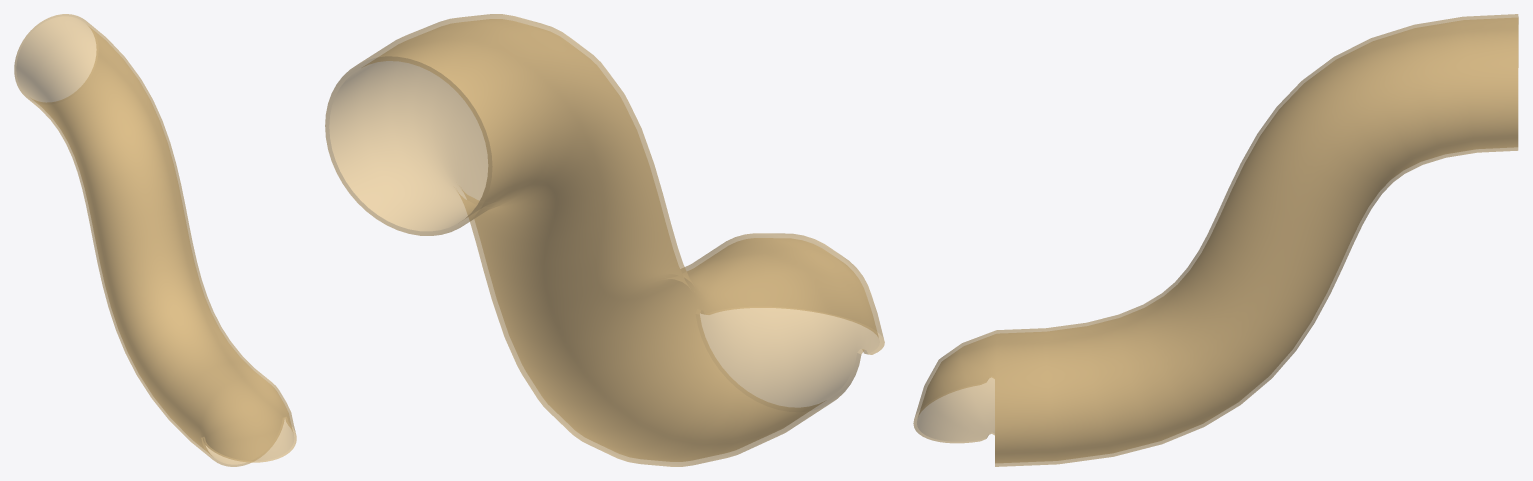
File: Slide_Test_2.fbx
The picture shows the model from 3 angles, left to right: view 1: azimuth 30°, elevation 25°; view 2: azimuth 150°, elevation 25°; view 3: azimuth 270°, elevation 25°; orthographic projection. The views are drawn at different scales.
Visible parts, largest first — view 1: BezierCurve.002; view 2: BezierCurve.002; view 3: BezierCurve.002.
Part boxes in pixels (x1,y1,x2,y2): BezierCurve.002: (14,14,296,466); BezierCurve.002: (325,14,884,466); BezierCurve.002: (913,14,1518,466).
Size of the model in its own units: 3.47 by 0.7845 by 2.78.
